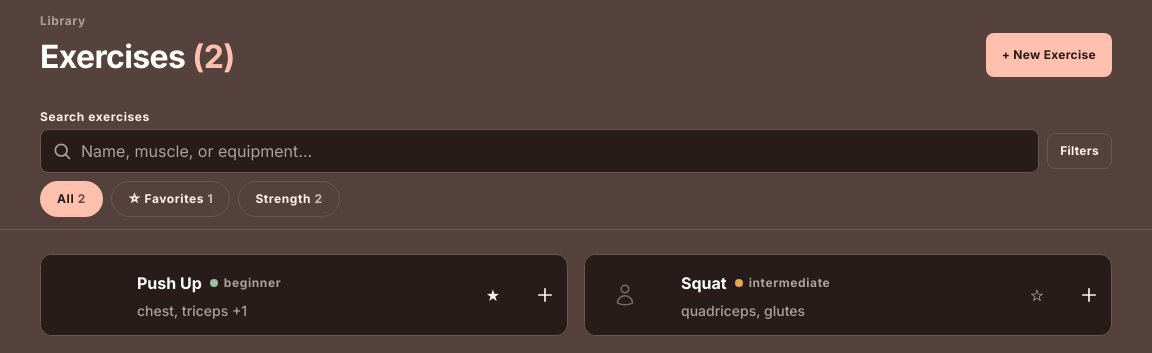
Test case: ExercisesPage Favorites filter tab › toggles favorites filter when clicked
Click the tab "☆ Favorites 1" at (171, 199), box 111,181 -> 230,217
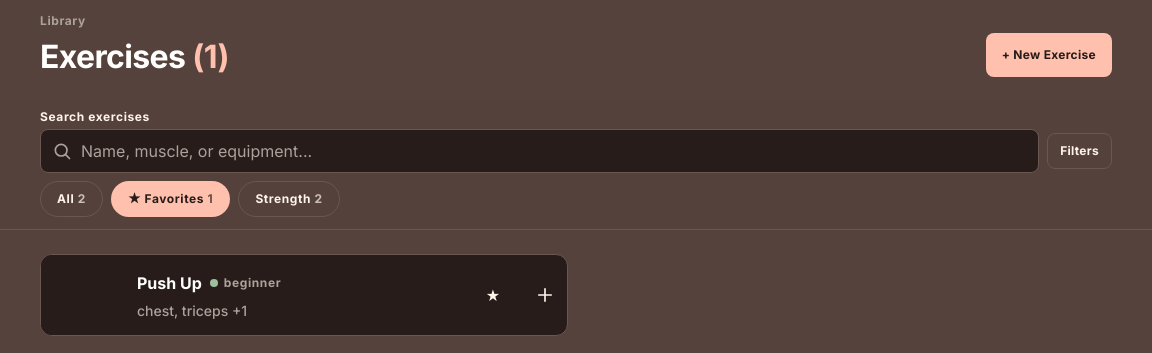
Expected: the heading "Push Up" is shown, 137,271 -> 202,295
Expected: the heading "Squat" is gone
